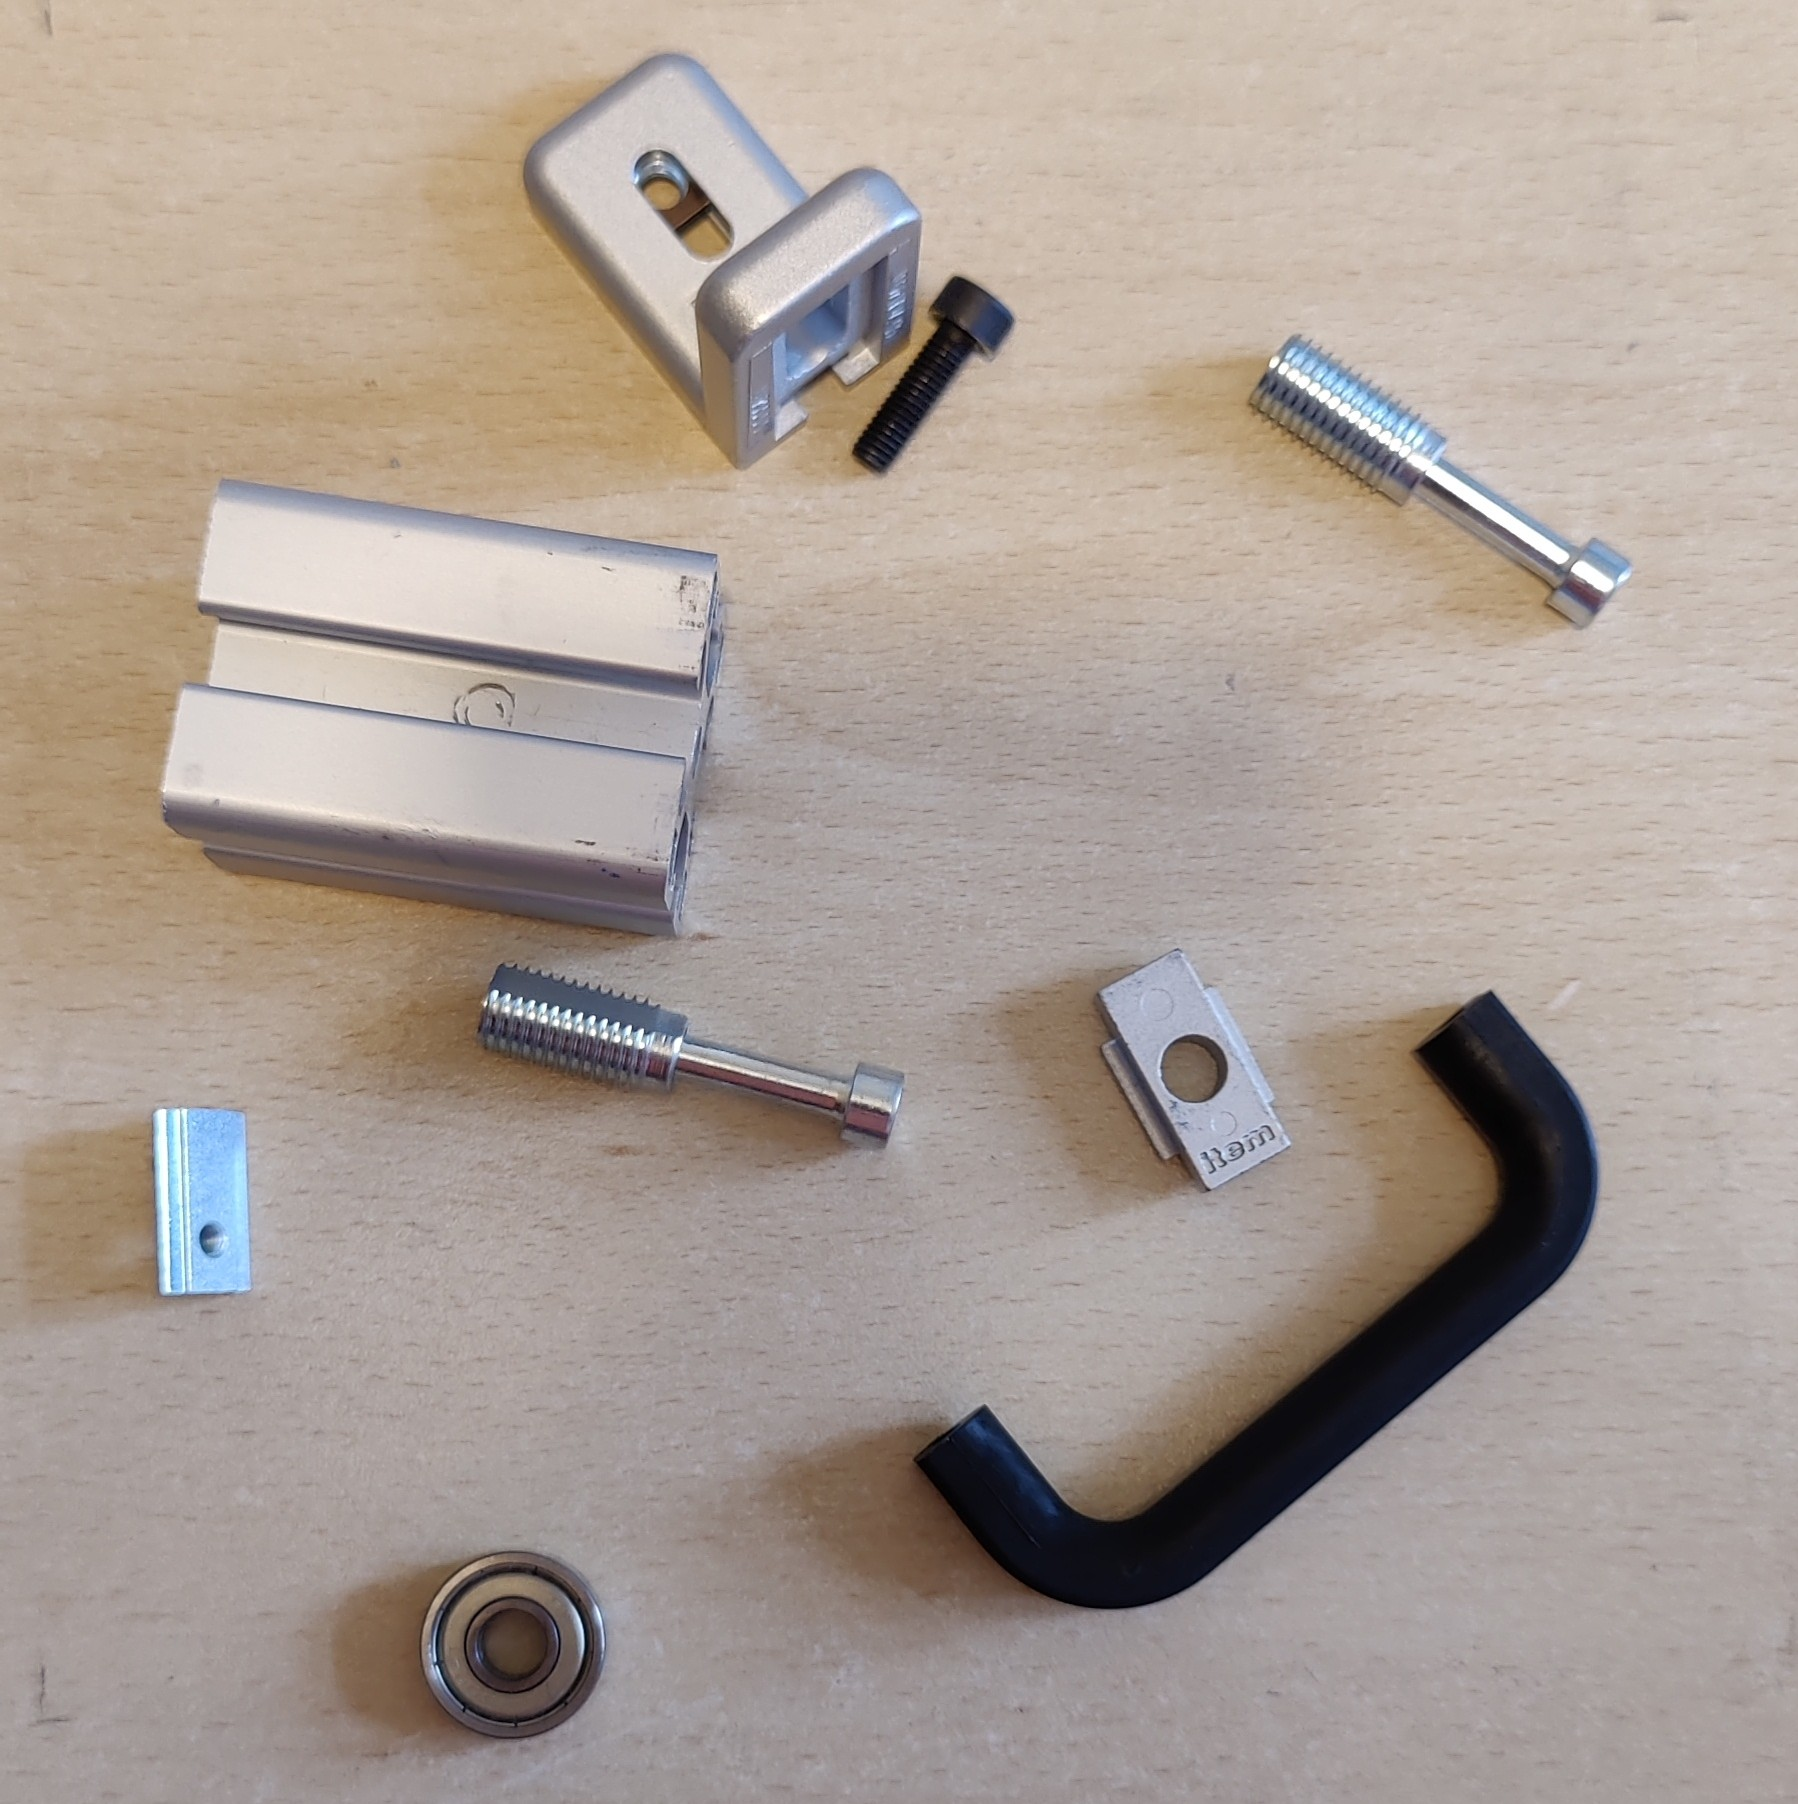Aluminium Extension: (158, 472, 729, 942)
Ball Bearing: (418, 1546, 608, 1741)
Multiwinkel: (517, 49, 924, 472)
Pull Handle: (914, 989, 1599, 1611)
Shoulder Socket Head Cap Screw: (1240, 329, 1637, 634), (476, 960, 911, 1155)
Socket Head Cap Screw: (850, 273, 1018, 479)
T Nut Square: (1088, 945, 1297, 1198)
T Spring Nut: (150, 1103, 255, 1300)
